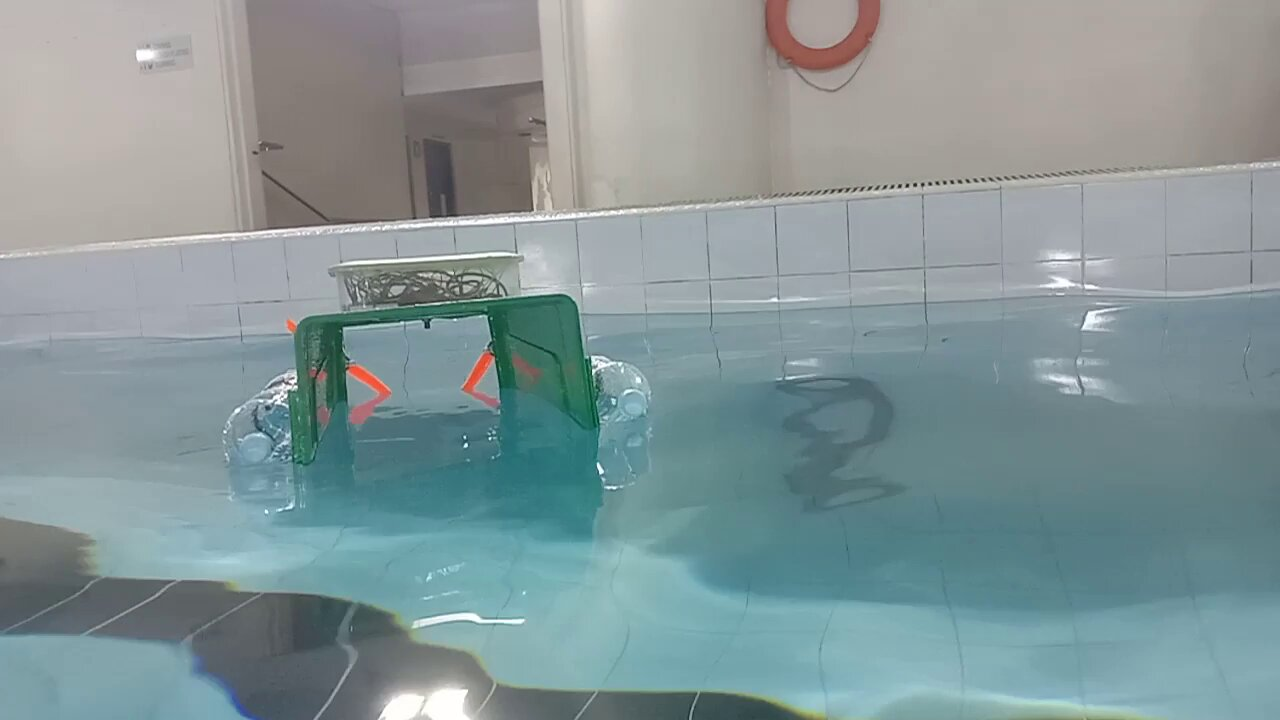drone: (216, 247, 652, 491)
